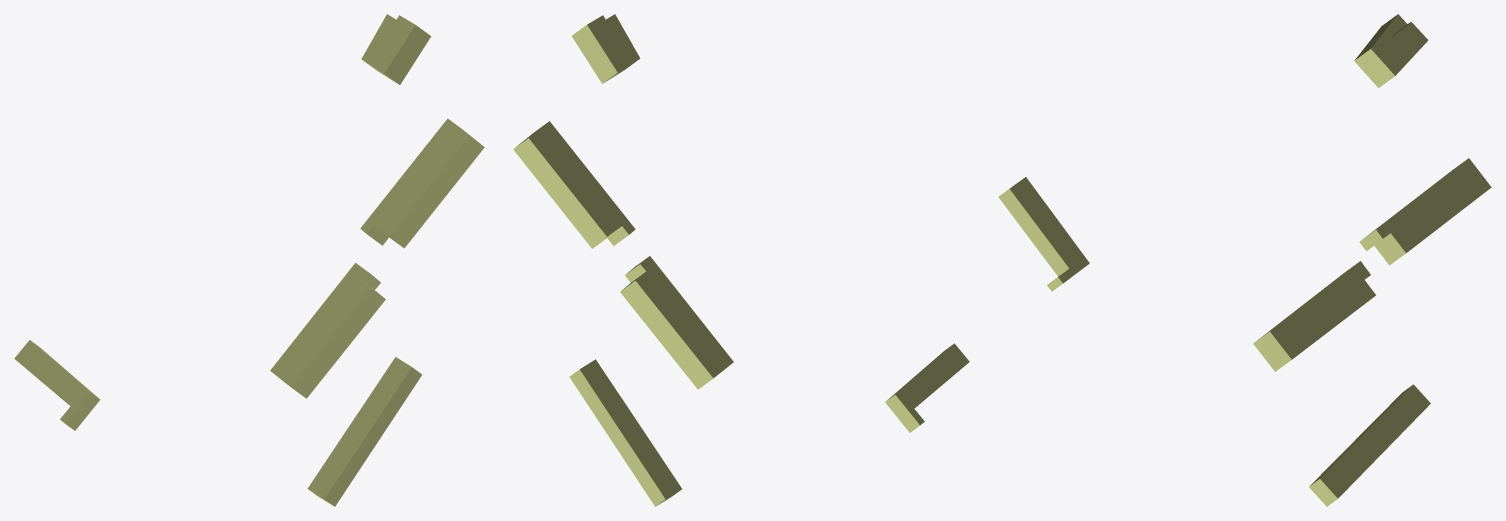
The picture shows the model from 3 angles, left to right: view 1: azimuth 30°, elevation 25°; view 2: azimuth 150°, elevation 25°; view 3: azimuth 330°, elevation 25°; orthographic projection. The views are drawn at different scales.
Parts seen in each view (by area): view 1: 0_0_1_2_0_0_0; view 2: 0_0_1_2_0_0_0; view 3: 0_0_1_2_0_0_0.
Boxes of the visible parts, box(x1,y1,x2,y2) form: 0_0_1_2_0_0_0: box(14, 14, 484, 506); 0_0_1_2_0_0_0: box(513, 14, 969, 506); 0_0_1_2_0_0_0: box(998, 14, 1491, 506).
Size of the model in its own units: 150 by 149 by 12.1.
